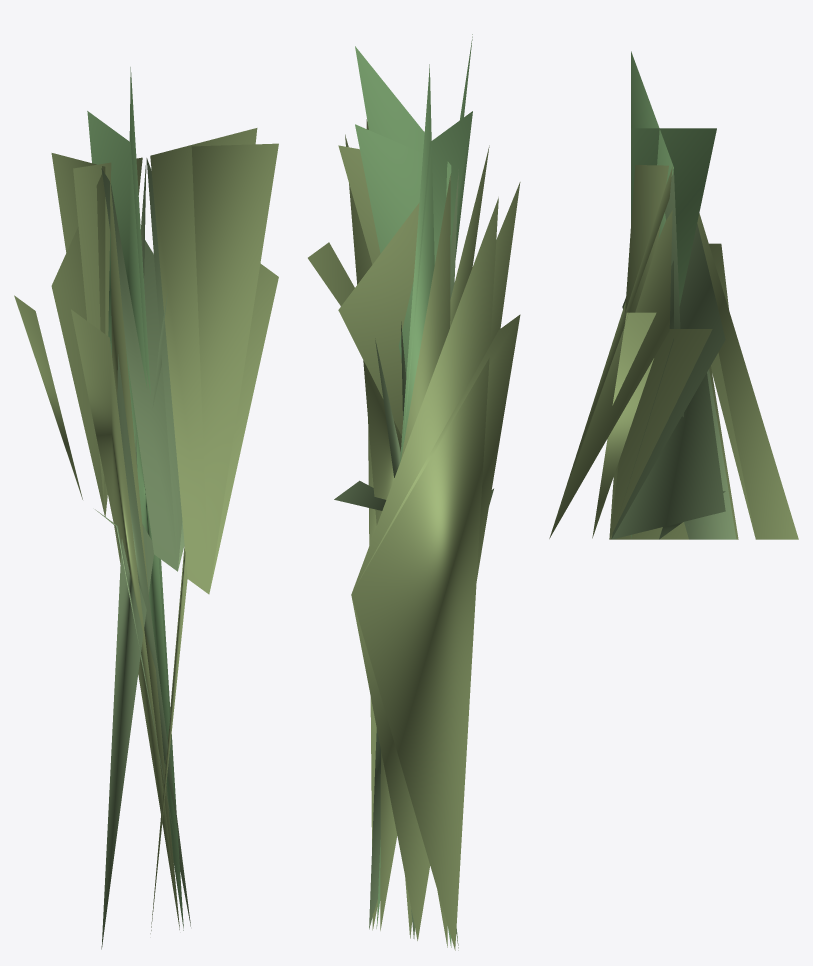
Rendered from npc_goblin_walk.glb.
The picture shows the model from 3 angles, left to right: view 1: azimuth 30°, elevation 25°; view 2: azimuth 150°, elevation 25°; view 3: azimuth 270°, elevation 25°; orthographic projection.
Parts seen in each view (by area): view 1: npc_goblin_walk; view 2: npc_goblin_walk; view 3: npc_goblin_walk.
Boxes of the visible parts, box(x1,y1,x2,y2) form: npc_goblin_walk: box(14, 67, 278, 949); npc_goblin_walk: box(308, 34, 520, 950); npc_goblin_walk: box(549, 51, 798, 539).
Bounding box in the file's own units: 0.58 × 2.3 × 0.58.
